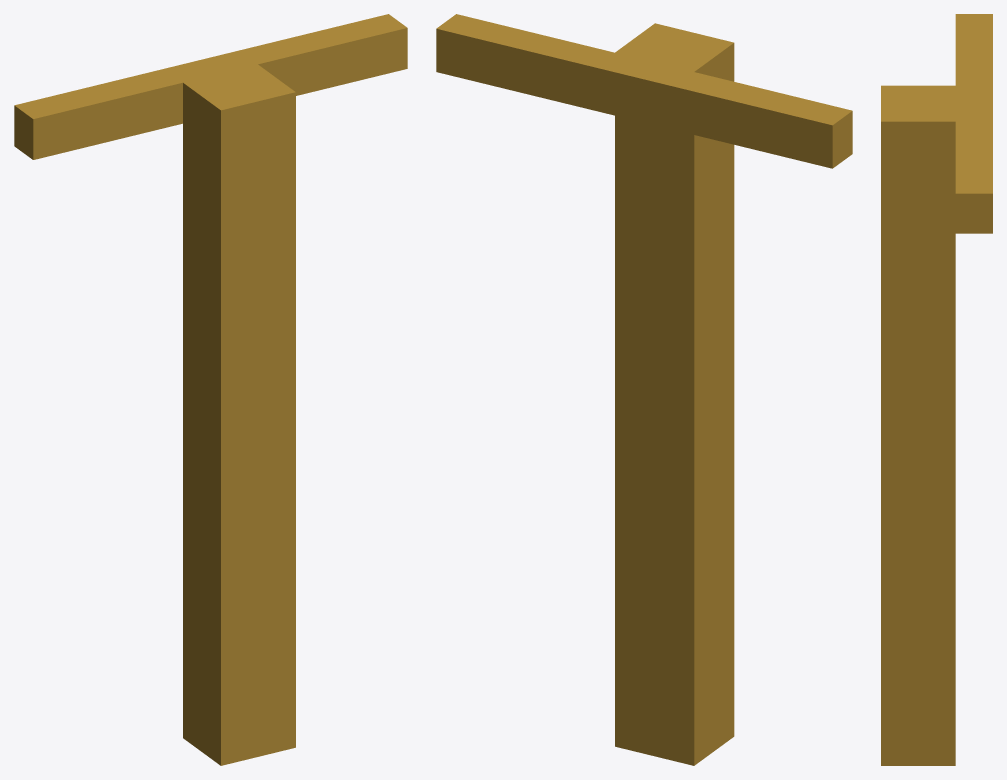
File: left_right.glb
3 views of the same model, side by side, from view 1: azimuth 30°, elevation 25°; view 2: azimuth 150°, elevation 25°; view 3: azimuth 270°, elevation 25° (orthographic). The views are drawn at different scales.
Parts seen in each view (by area): view 1: Maxis-3d2-mesh-40.001; view 2: Maxis-3d2-mesh-40.001; view 3: Maxis-3d2-mesh-40.001.
Part boxes in pixels (x1,y1,x2,y2): Maxis-3d2-mesh-40.001: (14, 14, 407, 765); Maxis-3d2-mesh-40.001: (436, 14, 852, 765); Maxis-3d2-mesh-40.001: (881, 14, 992, 765).
Bounding box in the file's own units: 4.78 × 8 × 1.26.
